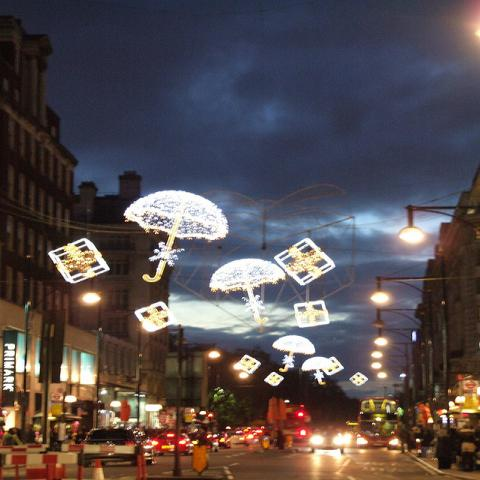bus: (357, 397, 400, 448)
car: (79, 424, 156, 466), (152, 434, 195, 456), (310, 430, 347, 454), (202, 432, 230, 449), (225, 431, 250, 446), (343, 431, 354, 448), (245, 432, 257, 440)
